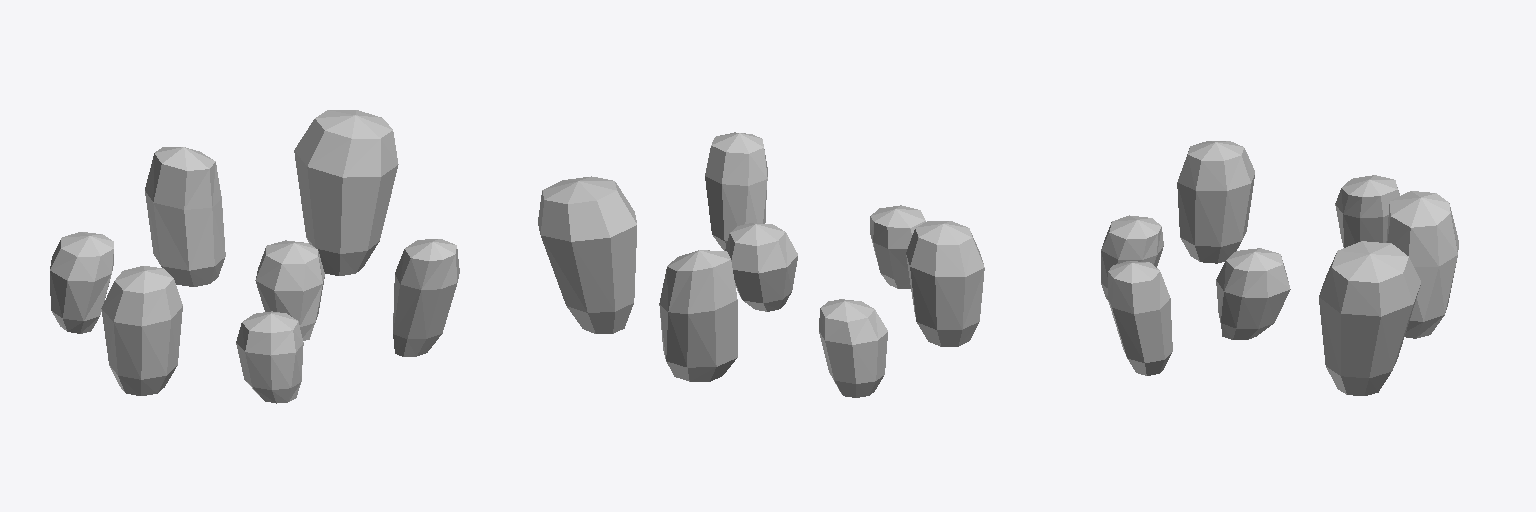
File: Anemone_B_02_LOD1.obj
3 renders of one model, left to right at view 1: azimuth 30°, elevation 25°; view 2: azimuth 150°, elevation 25°; view 3: azimuth 270°, elevation 25°, orthographic.
Visible parts, largest first — view 1: Anemone_B_02_LOD1_Cube.533; view 2: Anemone_B_02_LOD1_Cube.533; view 3: Anemone_B_02_LOD1_Cube.533.
Boxes of the visible parts, x1,y1,x2,y2 form: Anemone_B_02_LOD1_Cube.533: [50, 110, 459, 403]; Anemone_B_02_LOD1_Cube.533: [538, 132, 984, 397]; Anemone_B_02_LOD1_Cube.533: [1101, 141, 1458, 395].
Size of the model in its own units: 5.66 by 2.18 by 4.89.